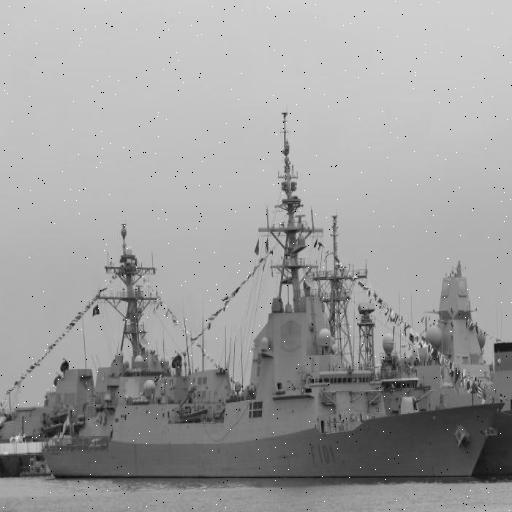Fragata: (48, 107, 502, 485)
